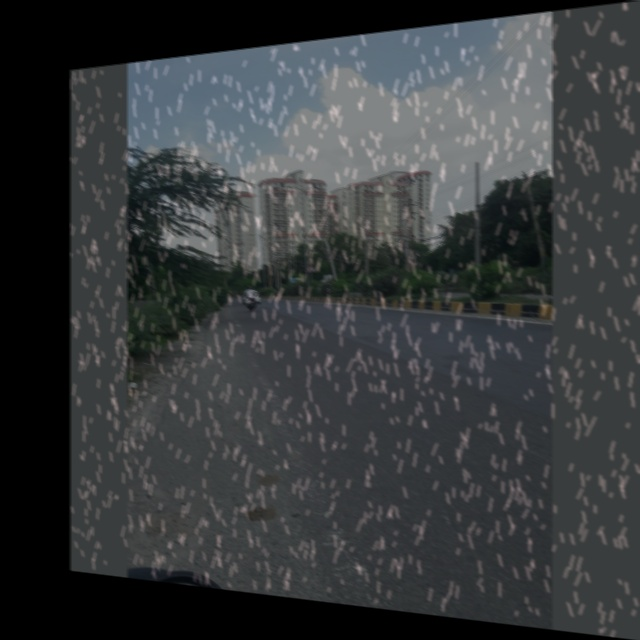Gap_in_Median: (303, 260, 316, 273)
